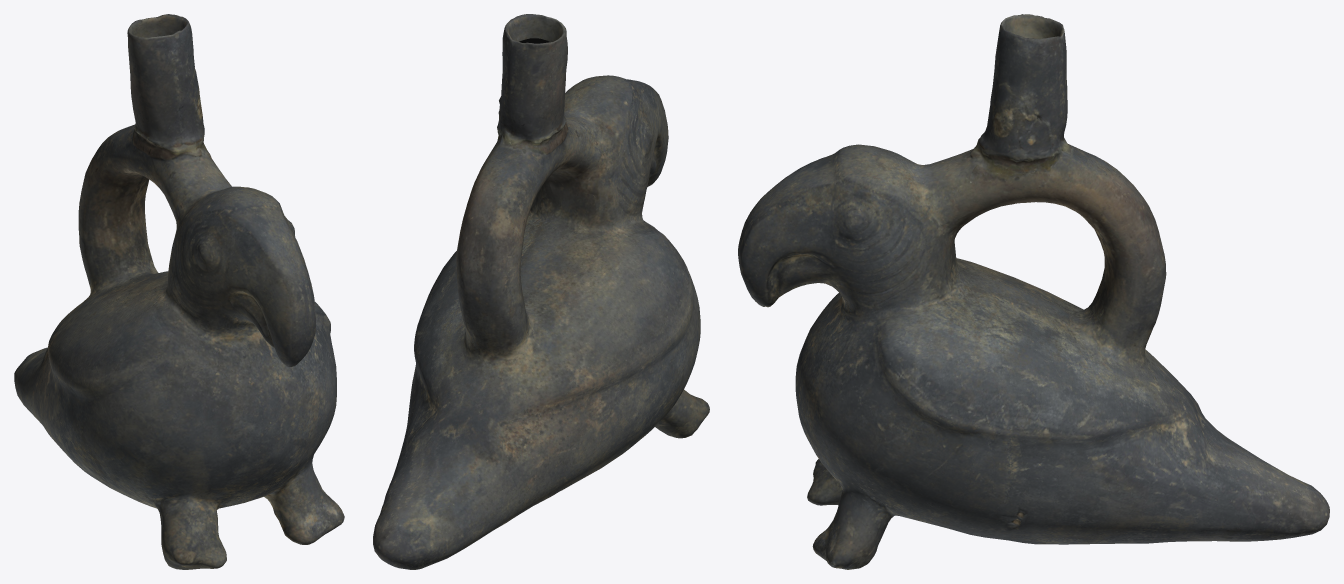
File: stirrup_vessel_in_form_of_a_bird.glb
3 renders of one model, left to right at view 1: azimuth 30°, elevation 25°; view 2: azimuth 150°, elevation 25°; view 3: azimuth 270°, elevation 25°, orthographic. The views are drawn at different scales.
Parts seen in each view (by area): view 1: Stirrup_Vessel_in_form_of_a_Bird_Inv_Hn25_gameready_0; view 2: Stirrup_Vessel_in_form_of_a_Bird_Inv_Hn25_gameready_0; view 3: Stirrup_Vessel_in_form_of_a_Bird_Inv_Hn25_gameready_0.
Boxes of the visible parts, <box> form: Stirrup_Vessel_in_form_of_a_Bird_Inv_Hn25_gameready_0: <box>14,14,344,569</box>; Stirrup_Vessel_in_form_of_a_Bird_Inv_Hn25_gameready_0: <box>373,14,709,569</box>; Stirrup_Vessel_in_form_of_a_Bird_Inv_Hn25_gameready_0: <box>738,14,1329,569</box>.
Size of the model in its own units: 0.0903 by 0.1679 by 0.1772.
2 materials, 2 textured.
